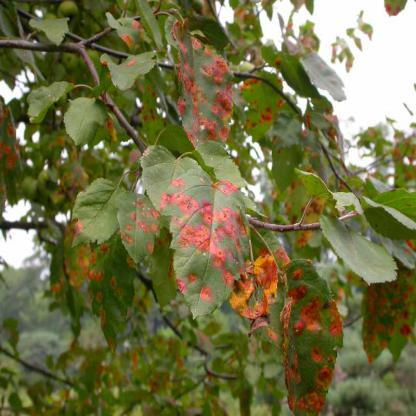Apple rust leaf: (157, 168, 261, 330), (273, 250, 371, 415), (160, 15, 243, 172), (88, 216, 140, 350), (352, 250, 402, 368), (111, 183, 161, 266), (1, 89, 24, 202)
